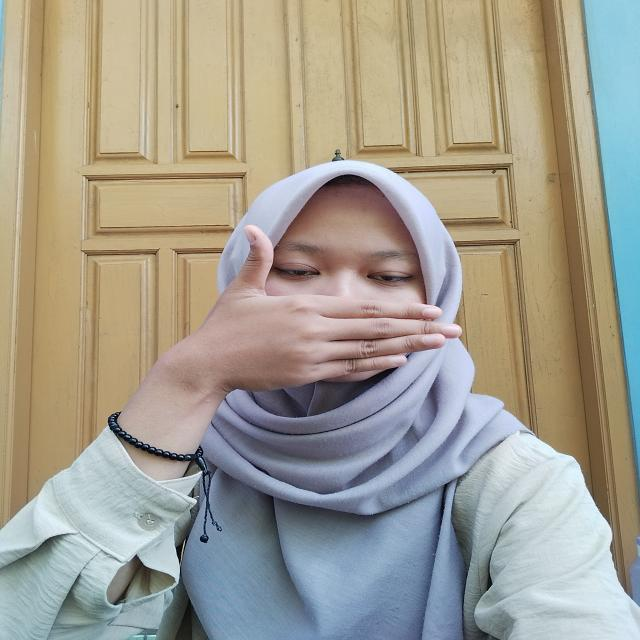buruk: (162, 231, 474, 397)
